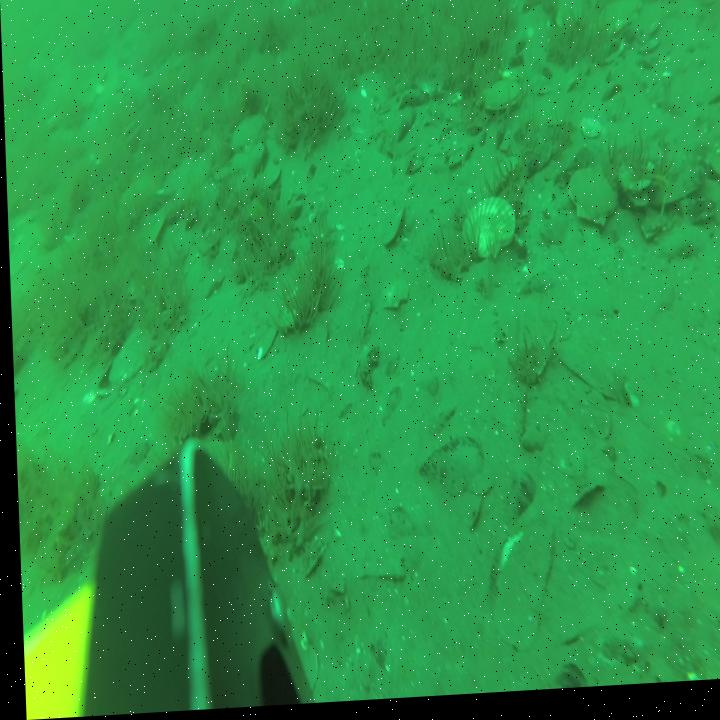scallop: (458, 196, 517, 272), (563, 165, 618, 238), (104, 324, 154, 393), (227, 115, 267, 161), (480, 84, 523, 121), (375, 278, 413, 318)
